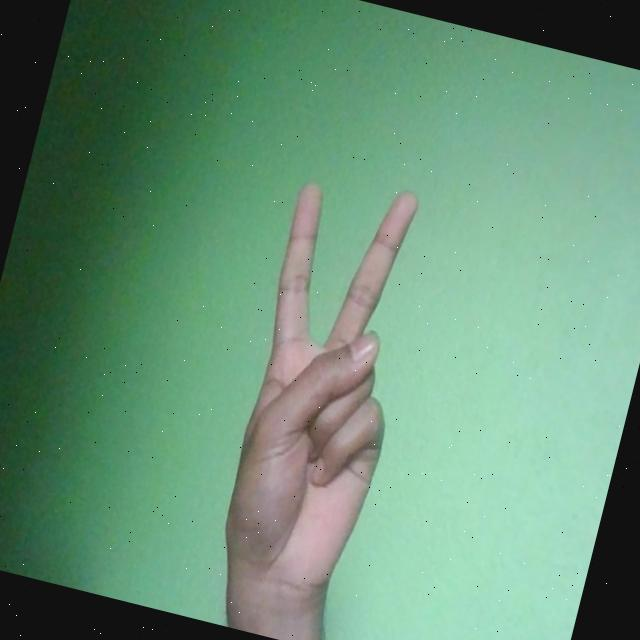Fist: (203, 166, 443, 612)
